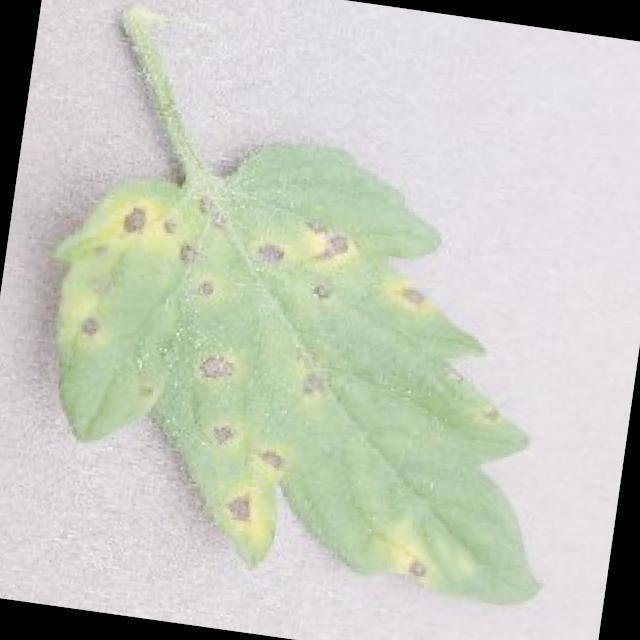Tomato Septoria spot leaf: (22, 109, 600, 612)
